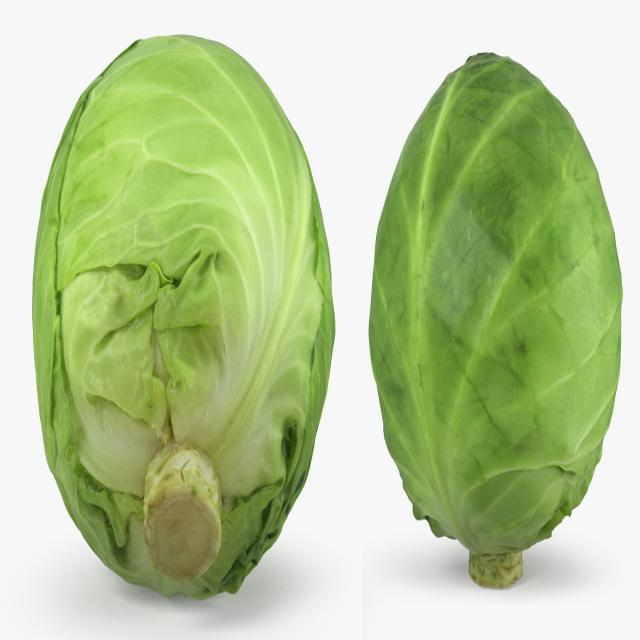cabbage: (30, 27, 338, 612), (365, 48, 625, 607)
